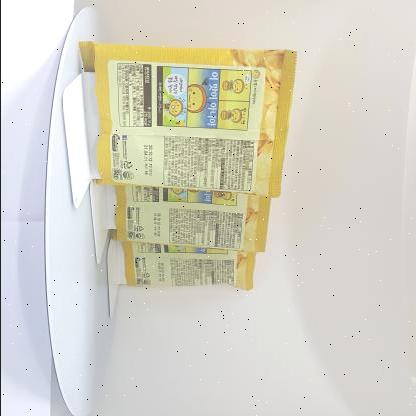Others: (65, 36, 305, 298)
